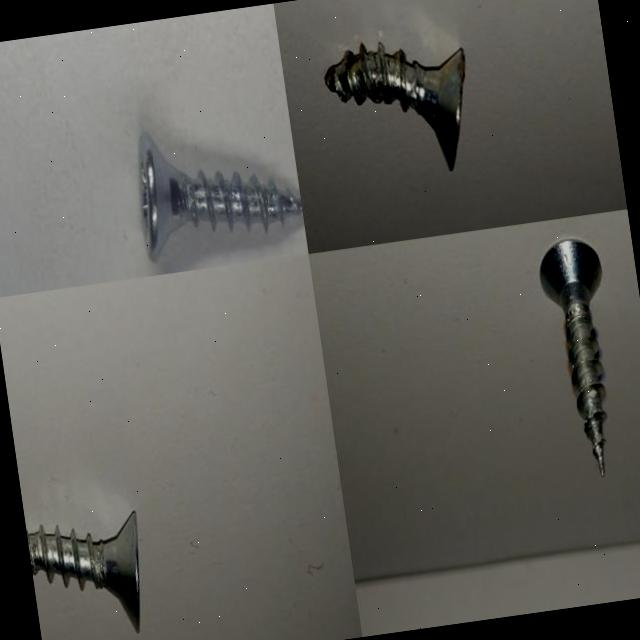Screw: (138, 133, 303, 263), (324, 44, 465, 173), (540, 241, 607, 479), (27, 513, 140, 634)
